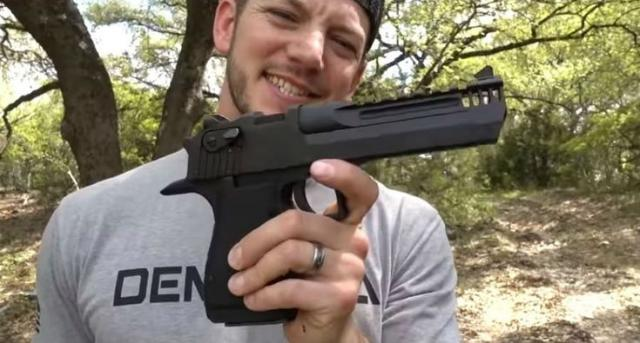handgun: (158, 65, 510, 332)
